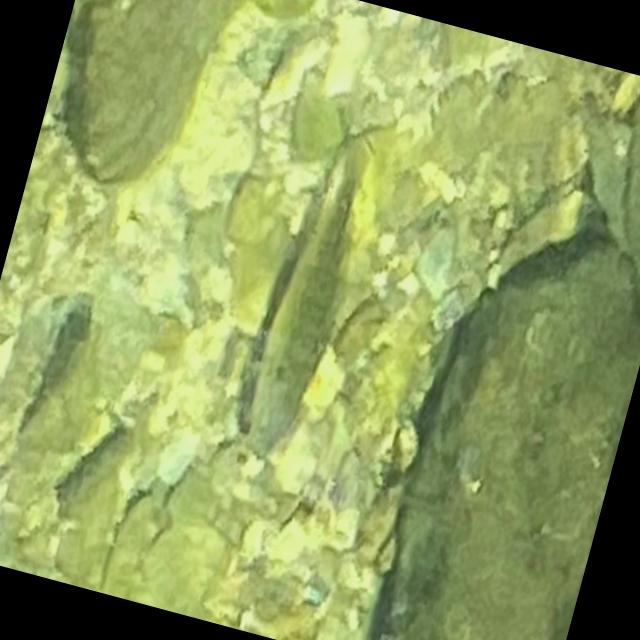Gunes Levregi: (220, 111, 396, 486)
